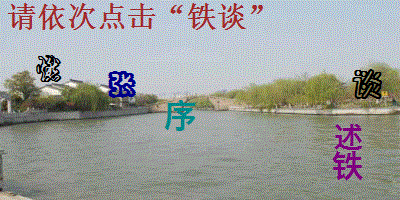result: (185, 2, 250, 33)
text: (351, 68, 387, 102), (330, 150, 364, 183), (33, 53, 66, 85), (164, 99, 195, 133), (332, 122, 364, 153), (105, 70, 137, 98)
